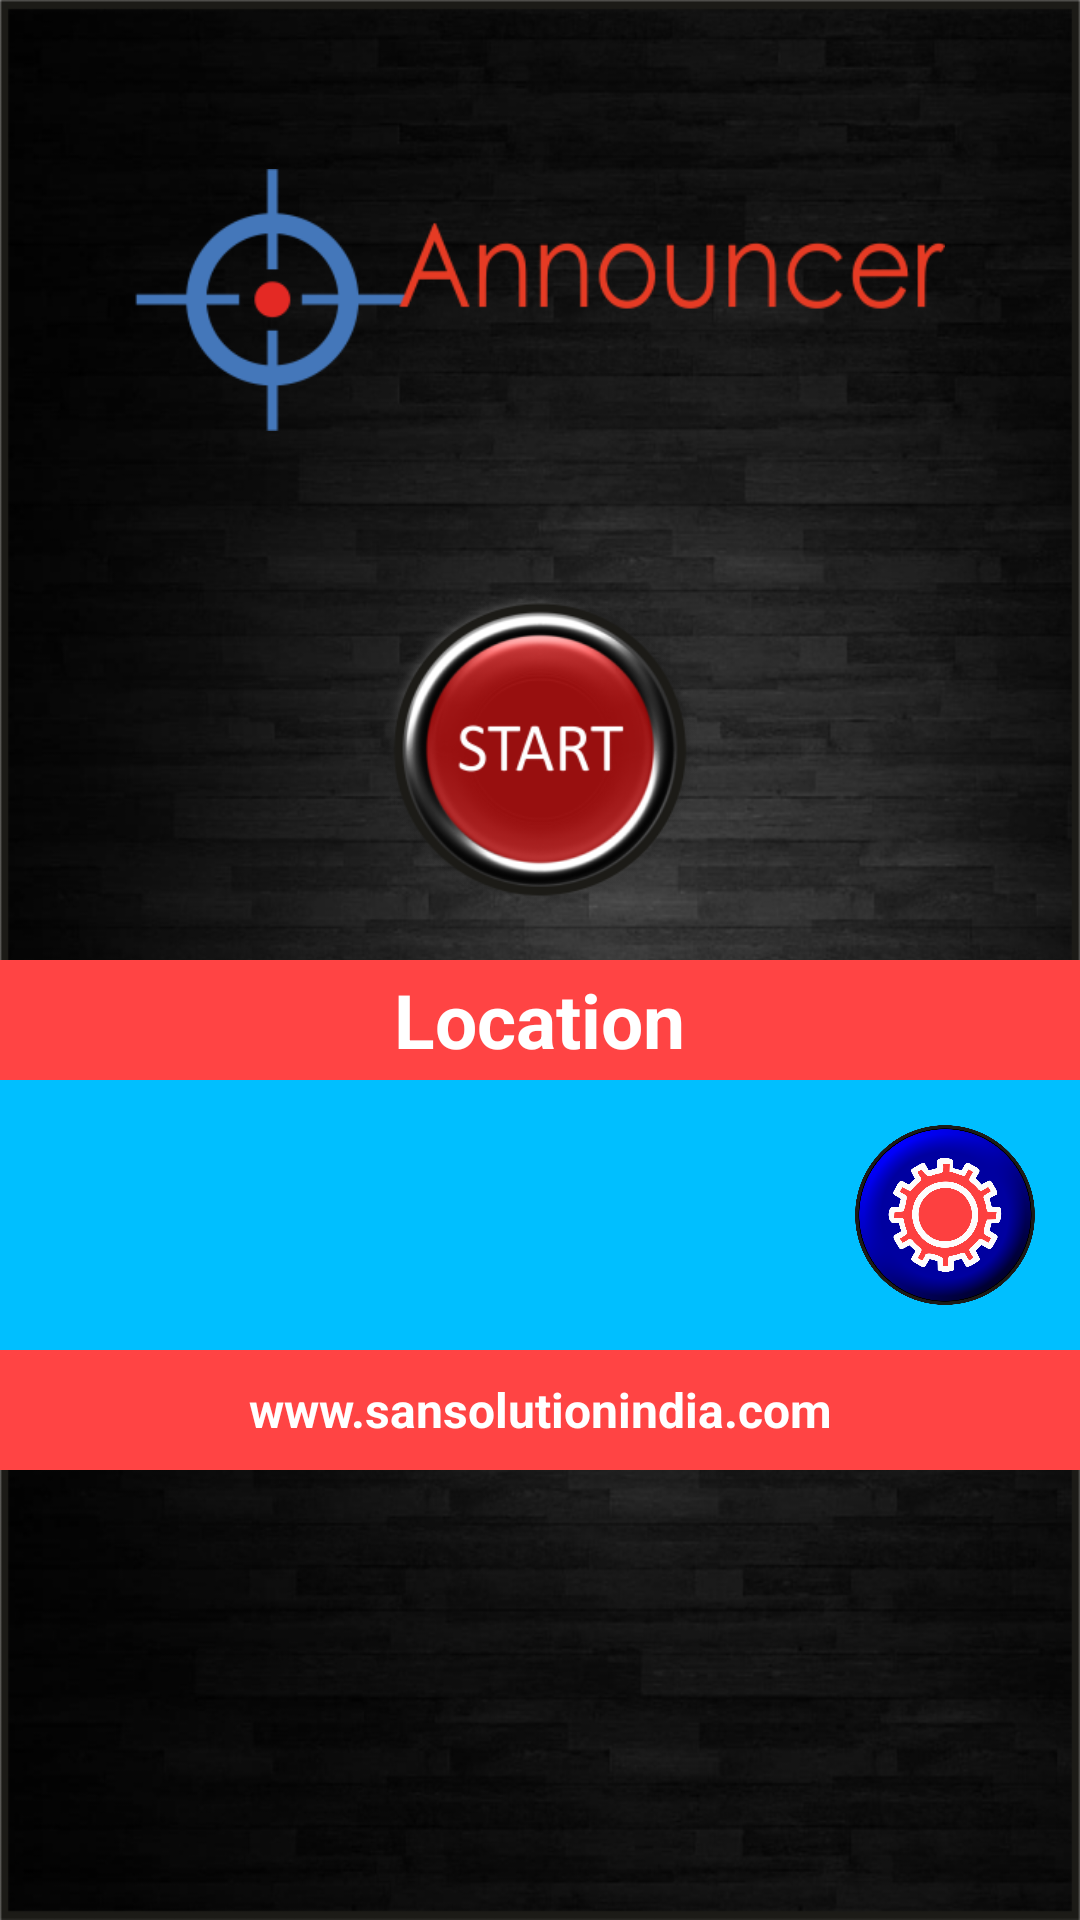

Icon bounding boxes for this 1080×1920 phone screenshot, format box=[x1, y1, x2, y2]:
ble setting: box=[855, 1125, 1035, 1305]
